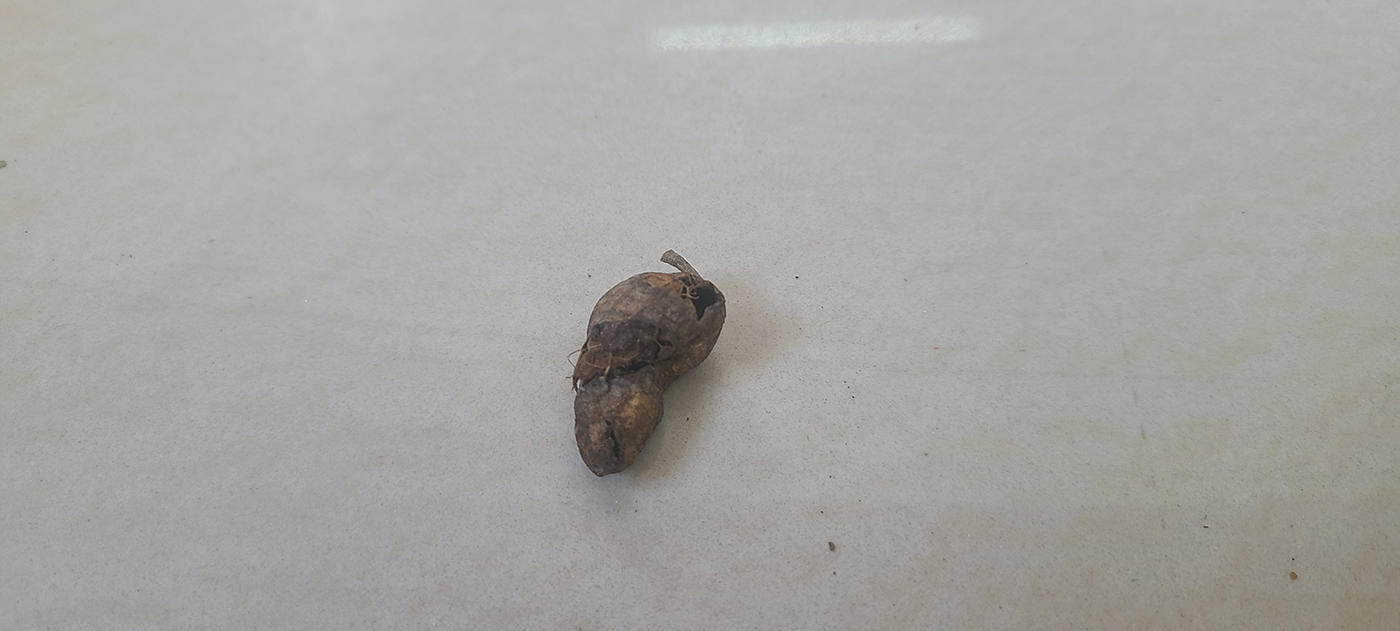l: (569, 249, 730, 479)
